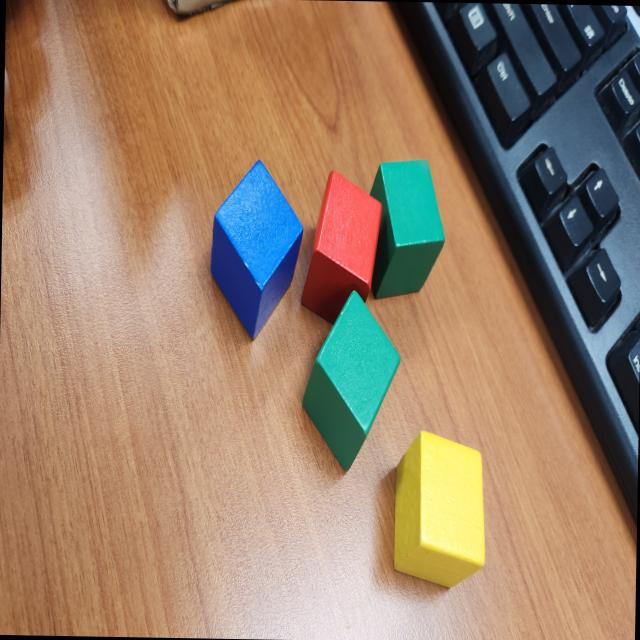blue: (207, 158, 305, 342)
green: (298, 288, 403, 473), (366, 158, 446, 299)
red: (301, 170, 384, 327)
yellow: (392, 428, 489, 588)
